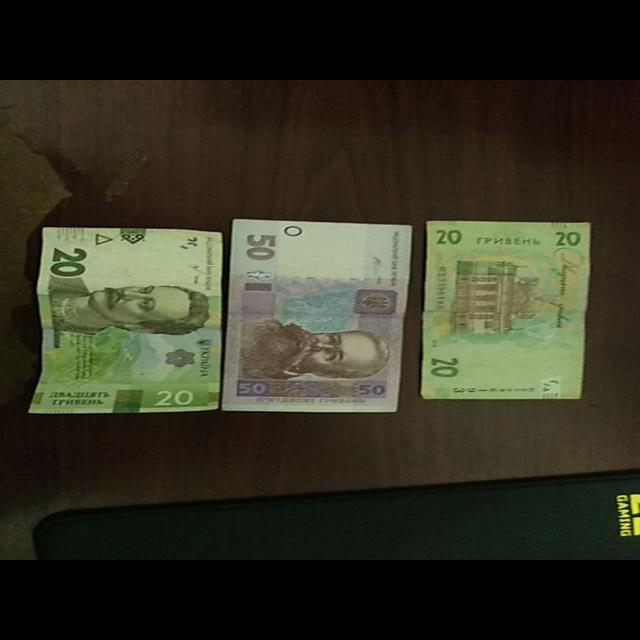20uah: (28, 227, 222, 413), (419, 221, 595, 400)
50uah: (222, 219, 412, 413)
